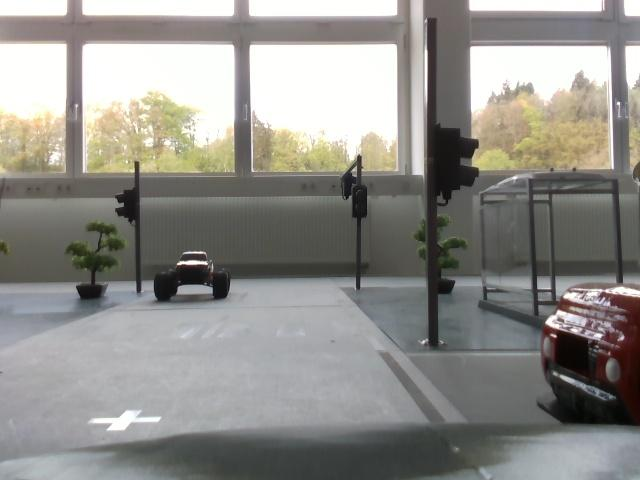car: (531, 280, 640, 425), (150, 244, 238, 308)
potted plant: (416, 215, 471, 300), (74, 218, 122, 300)
traffic light: (429, 125, 482, 197), (119, 186, 145, 226), (352, 188, 370, 220), (342, 173, 360, 203)
